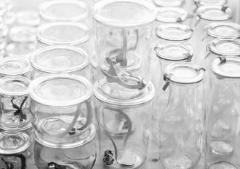glass: (0, 1, 240, 169)
